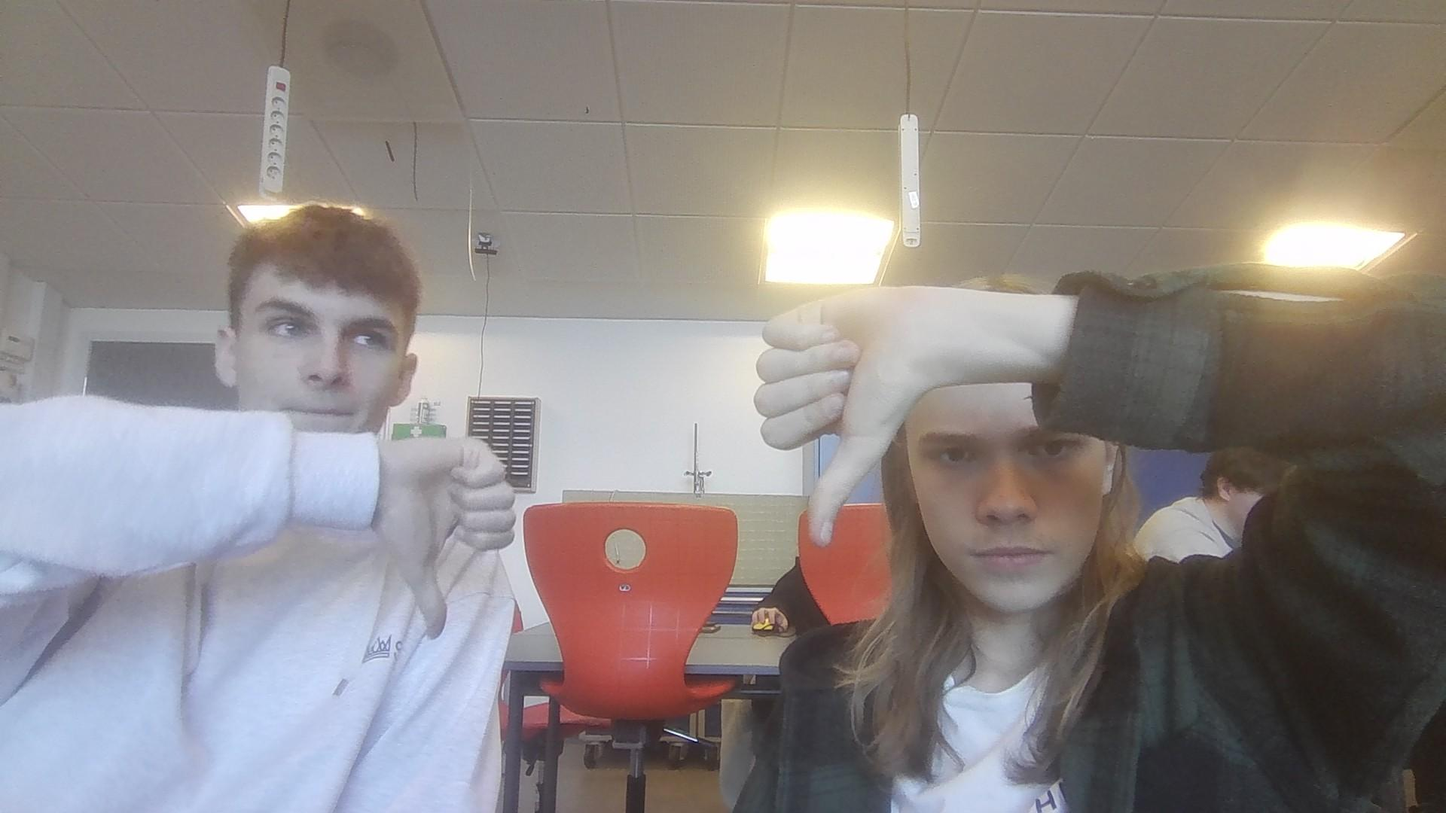thumbs down: (747, 273, 924, 561), (346, 431, 535, 656)
